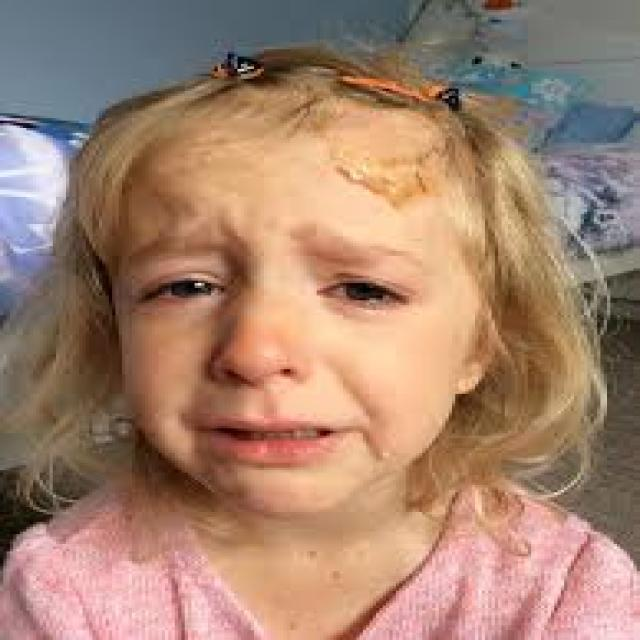burn: (247, 99, 462, 209), (216, 316, 295, 386)
